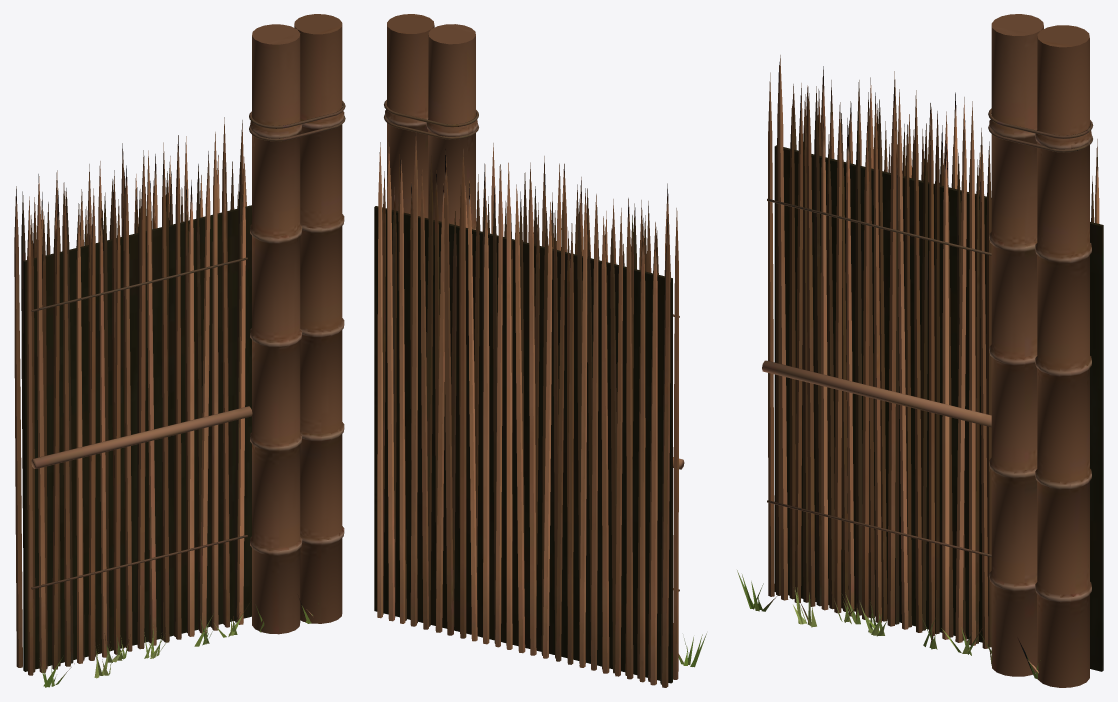
File: fence_reed_end_e_pair_hd.glb
The picture shows the model from 3 angles, left to right: view 1: azimuth 30°, elevation 25°; view 2: azimuth 150°, elevation 25°; view 3: azimuth 330°, elevation 25°; orthographic projection. The views are drawn at different scales.
Visible parts, largest first — view 1: fence_reed_end_e_pair; view 2: fence_reed_end_e_pair; view 3: fence_reed_end_e_pair.
Part boxes in pixels (box(x1,y1,x2,y2)): fence_reed_end_e_pair: box(14, 14, 345, 687); fence_reed_end_e_pair: box(374, 14, 706, 687); fence_reed_end_e_pair: box(737, 14, 1103, 687).
Size of the model in its own units: 1.04 by 1.87 by 0.2054.
Materials: 1 (1 with a texture image).
